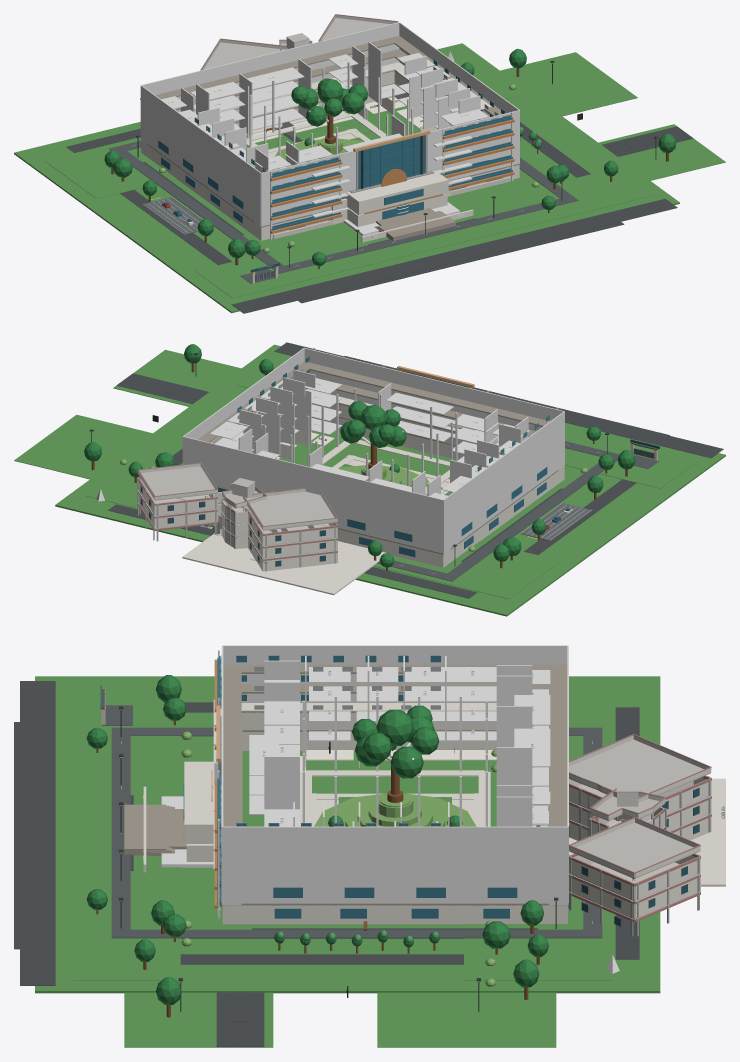
The model's file is sdmit_campus.glb.
3 renders of one model, top to bottom at view 1: azimuth 30°, elevation 25°; view 2: azimuth 150°, elevation 25°; view 3: azimuth 270°, elevation 25°, orthographic. The views are drawn at different scales.
Parts seen in each view (by area): view 1: SDMIT_SITE_BASE, SOUTH_LAWN, MAIN_APPROACH_ROAD, NORTH_LAWN, LAWN_06, F4_OUTER_N, LAWN_07, FRONT_CENTRAL_TOWER_GLASS, FIRST_FLOOR_FRONT_PROJECTION, TT_Road_Front, F4_OUTER_W, TT_Road_Left (+30 smaller); view 2: SDMIT_SITE_BASE, NORTH_LAWN, CCF_BUILDING_FOOTPRINT, LAWN_06, F4_OUTER_N, F4_OUTER_S, F3_OUTER_N, SOUTH_LAWN, LAWN_07, MAIN_APPROACH_ROAD, CCF_L7_Lab_Wing_Roof_Slab, F2_OUTER_N (+30 smaller); view 3: SDMIT_SITE_BASE, SOUTH_LAWN, MAIN_APPROACH_ROAD, LAWN_06, NORTH_LAWN, F4_OUTER_E, F2_OUTER_E, F3_OUTER_E, F4_OUTER_W, LAWN_07, F1_OUTER_E, ACADEMIC_GROUND_EAST_WING (+51 smaller).
Boxes of the visible parts, box(x1,y1,x2,y2) form: SDMIT_SITE_BASE: box(14, 43, 679, 313); SOUTH_LAWN: box(195, 171, 651, 298); MAIN_APPROACH_ROAD: box(231, 198, 677, 313); NORTH_LAWN: box(45, 58, 515, 198); LAWN_06: box(500, 52, 637, 116); F4_OUTER_N: box(141, 22, 399, 94); LAWN_07: box(599, 124, 725, 180); FRONT_CENTRAL_TOWER_GLASS: box(358, 135, 424, 189); FIRST_FLOOR_FRONT_PROJECTION: box(346, 170, 448, 215); TT_Road_Front: box(278, 195, 578, 273); F4_OUTER_W: box(140, 85, 261, 186); TT_Road_Left: box(109, 146, 289, 273); SDMIT_SITE_BASE: box(55, 344, 725, 616); NORTH_LAWN: box(86, 458, 560, 599); CCF_BUILDING_FOOTPRINT: box(182, 529, 386, 595); LAWN_06: box(14, 414, 152, 479); F4_OUTER_N: box(183, 436, 443, 513); F4_OUTER_S: box(304, 347, 563, 421); F3_OUTER_N: box(183, 450, 443, 527); SOUTH_LAWN: box(237, 357, 697, 488); LAWN_07: box(113, 349, 241, 406); MAIN_APPROACH_ROAD: box(274, 342, 723, 458); CCF_L7_Lab_Wing_Roof_Slab: box(247, 491, 336, 530); F2_OUTER_N: box(183, 464, 443, 540); SDMIT_SITE_BASE: box(35, 676, 660, 993); SOUTH_LAWN: box(73, 686, 180, 980); MAIN_APPROACH_ROAD: box(20, 681, 55, 985); LAWN_06: box(377, 992, 556, 1047); NORTH_LAWN: box(464, 686, 612, 980); F4_OUTER_E: box(222, 826, 567, 846); F2_OUTER_E: box(222, 866, 567, 885); F3_OUTER_E: box(222, 847, 567, 866); F4_OUTER_W: box(223, 645, 567, 664); LAWN_07: box(124, 992, 273, 1047); F1_OUTER_E: box(222, 885, 567, 905); ACADEMIC_GROUND_EAST_WING: box(241, 905, 548, 924).
Size of the model in its own units: 146 by 23.26 by 120.
